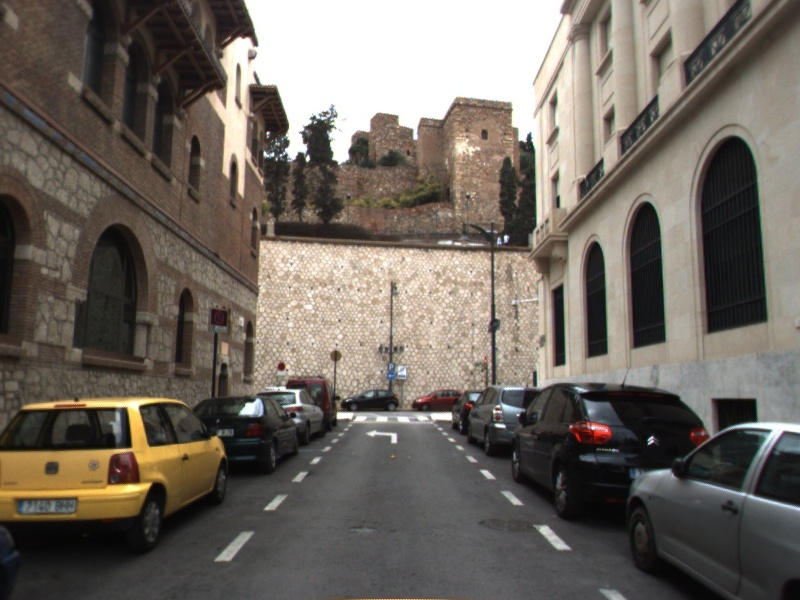LEFT: (364, 427, 399, 446)
